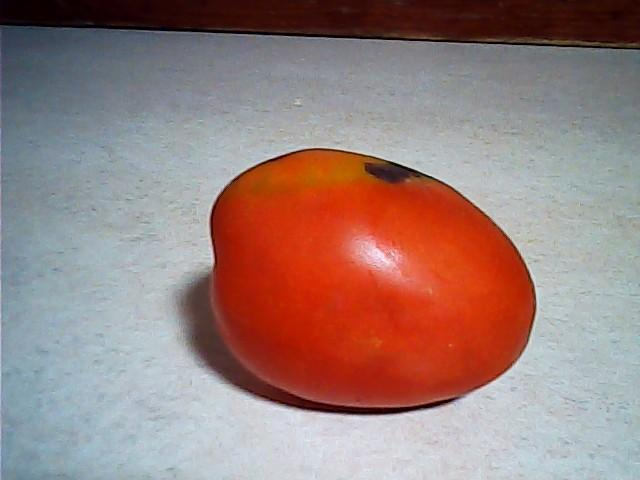defectuoso: (188, 141, 543, 417)
